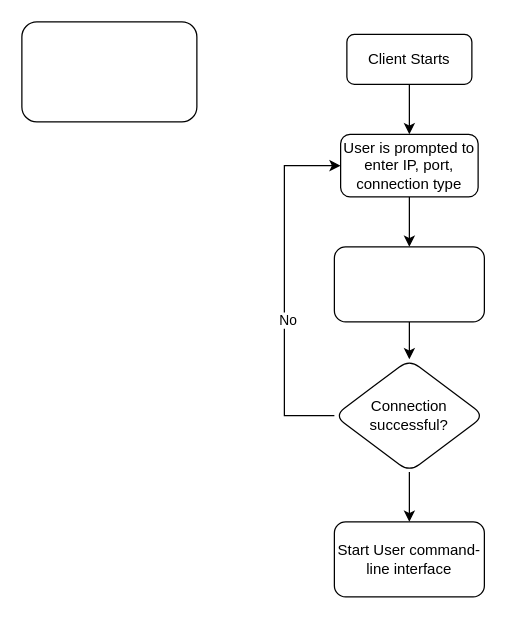
This 506x619 diagram has some shape labels left out. Each missing label, with the centre of its shape:
"Attempt Connection to server" belongs at (408,284).
"Server Starts and Listens for connections for Specific IP and Port" belongs at (109,71).
